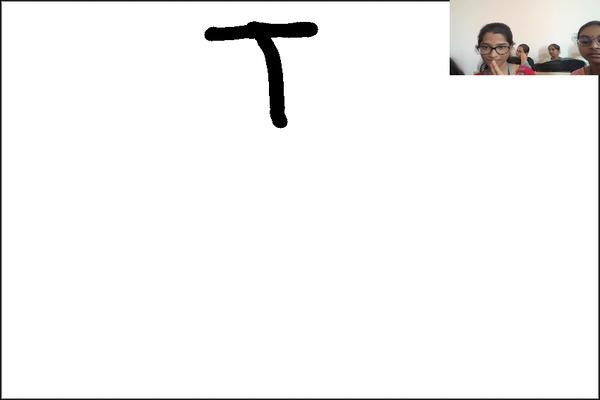T: (199, 16, 326, 131)
